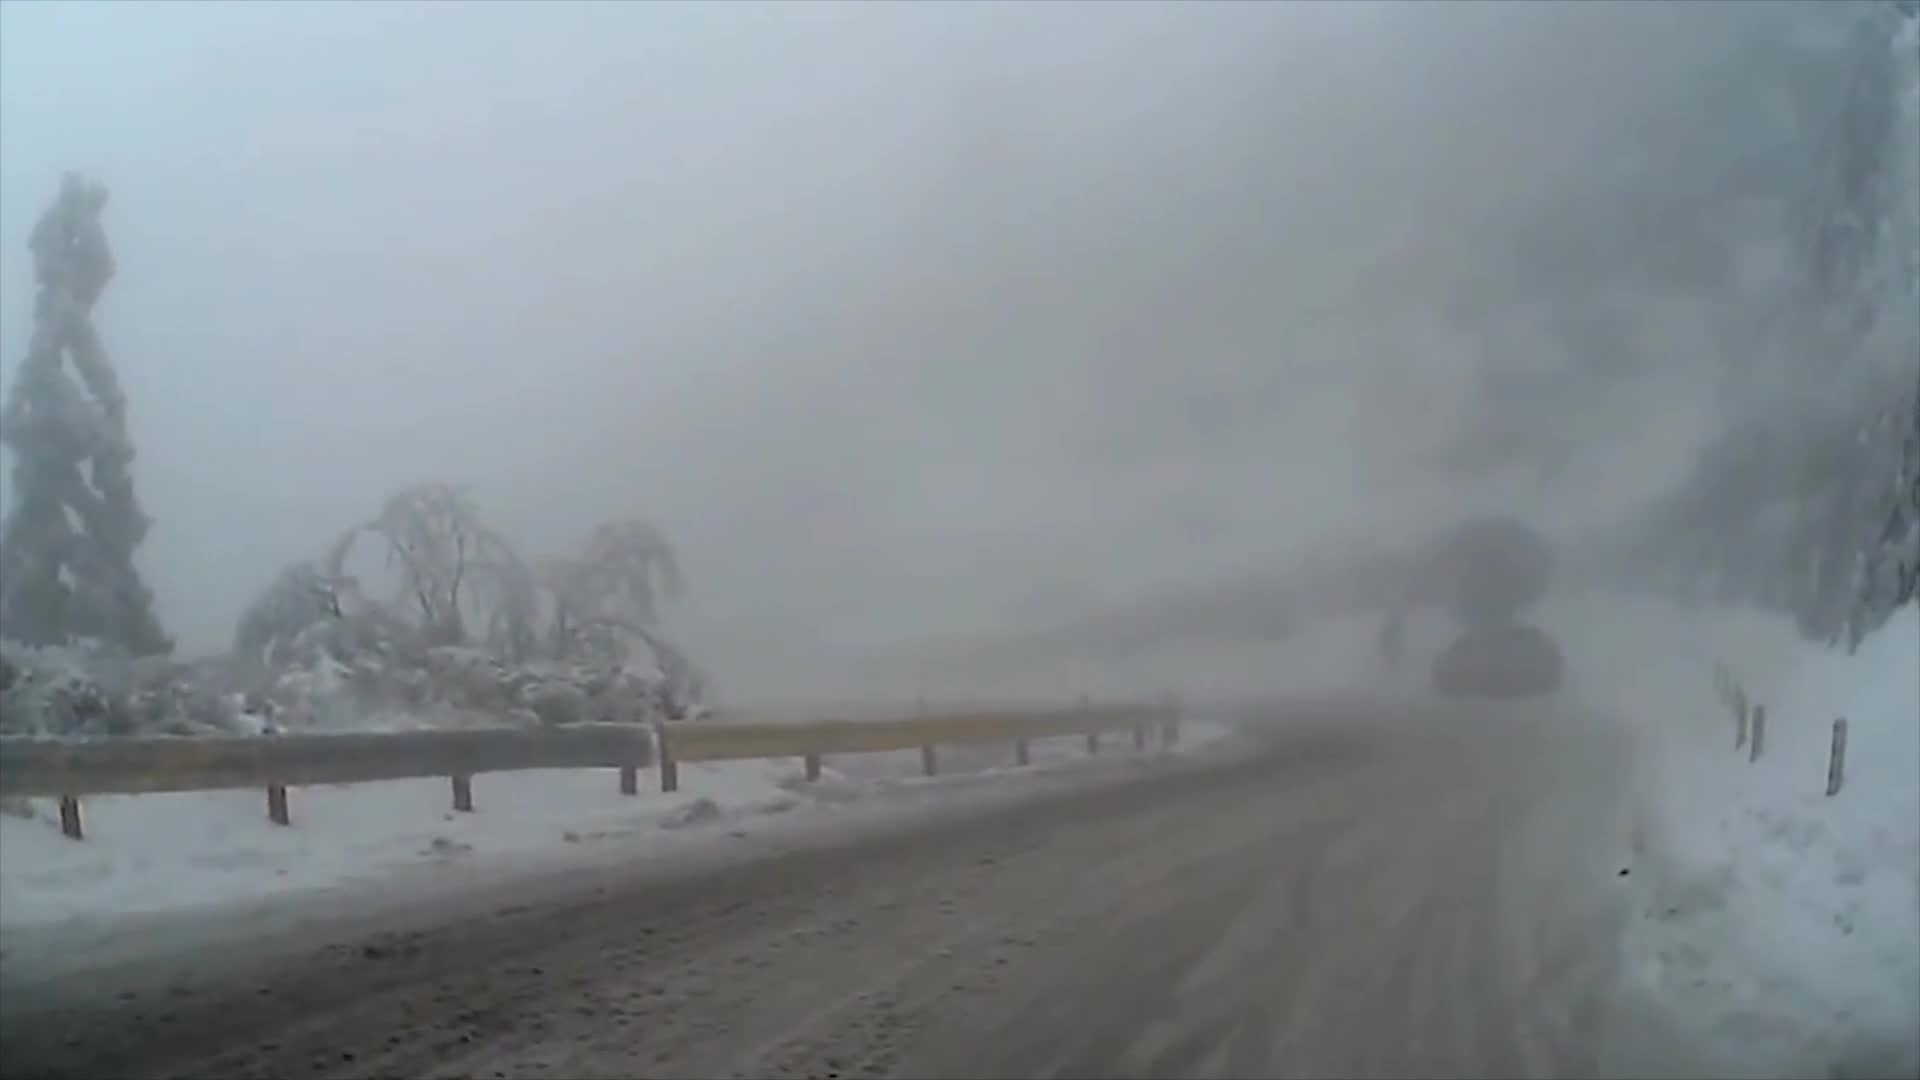vehicle: (1429, 622, 1563, 698)
